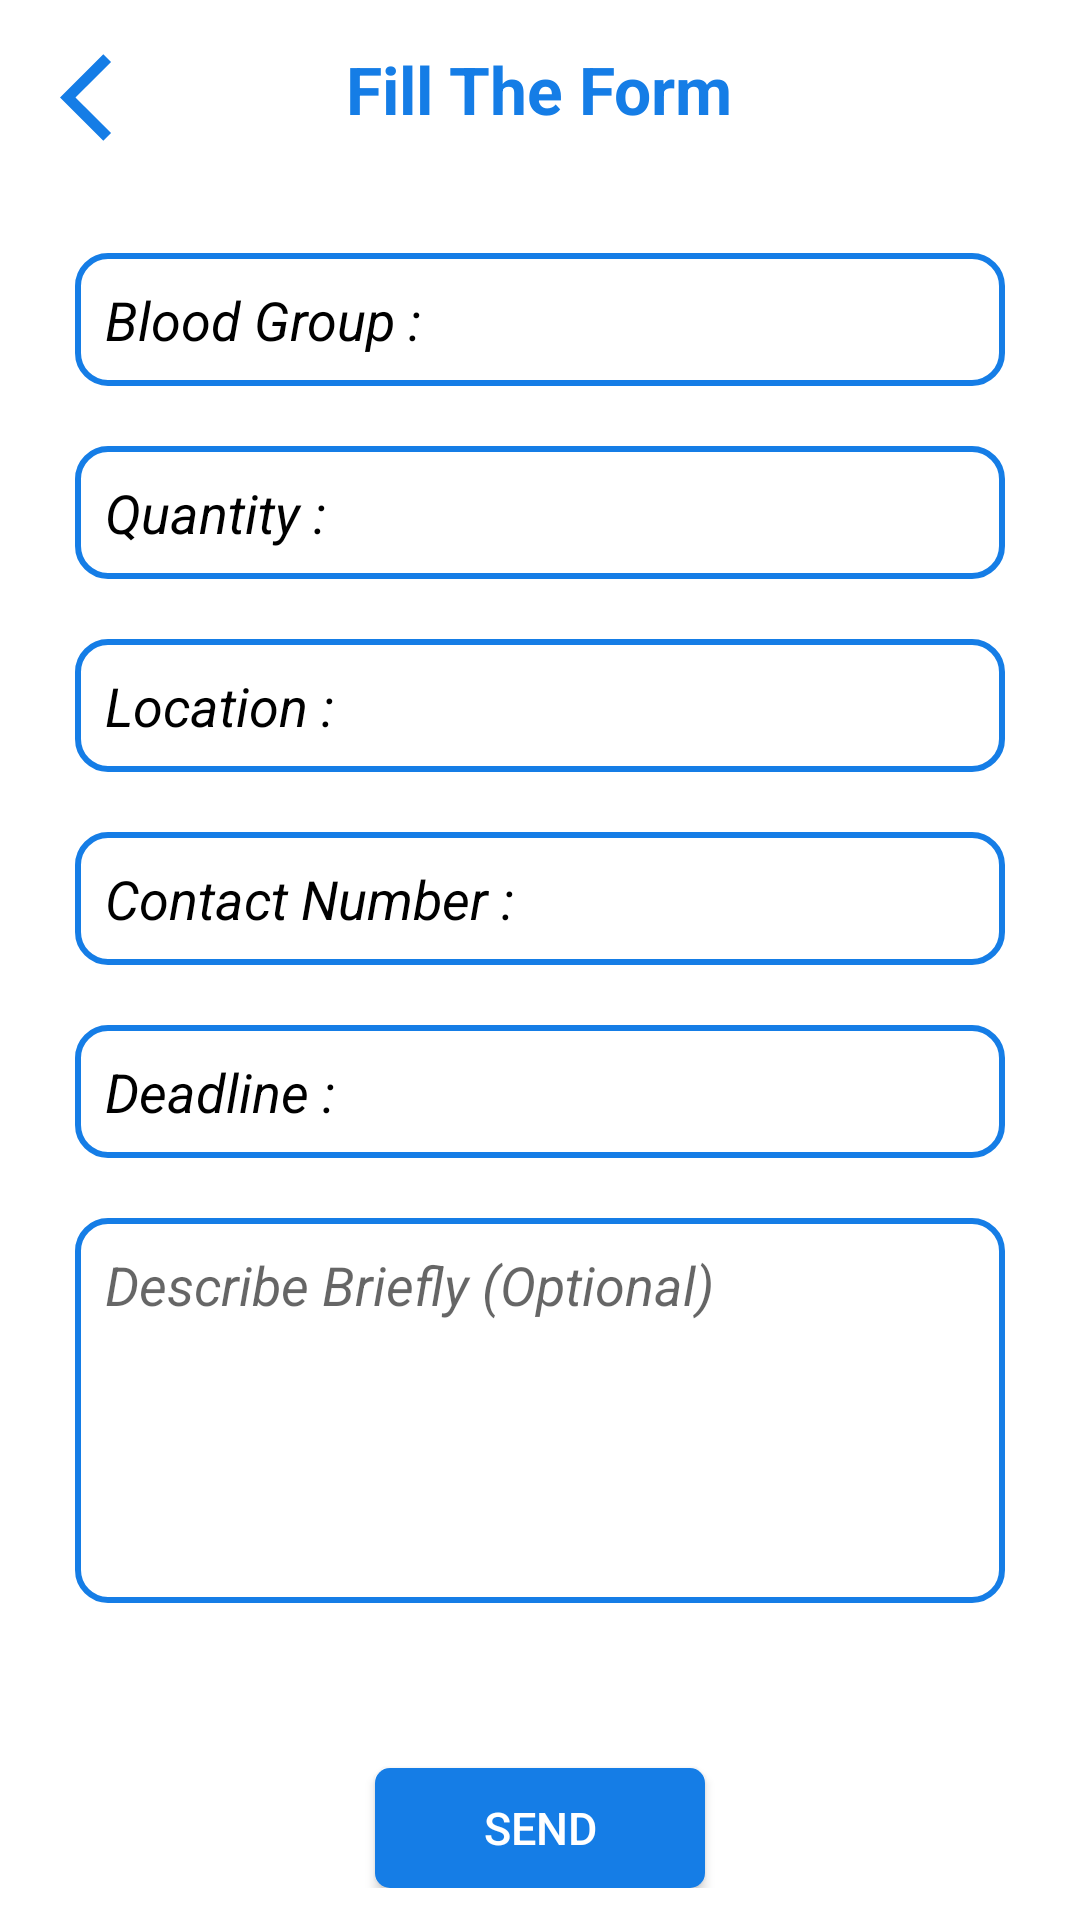

Screen size 1080w x 1920h. Icon name, then its center in pixels as [x,y]:
back: [85,97]
